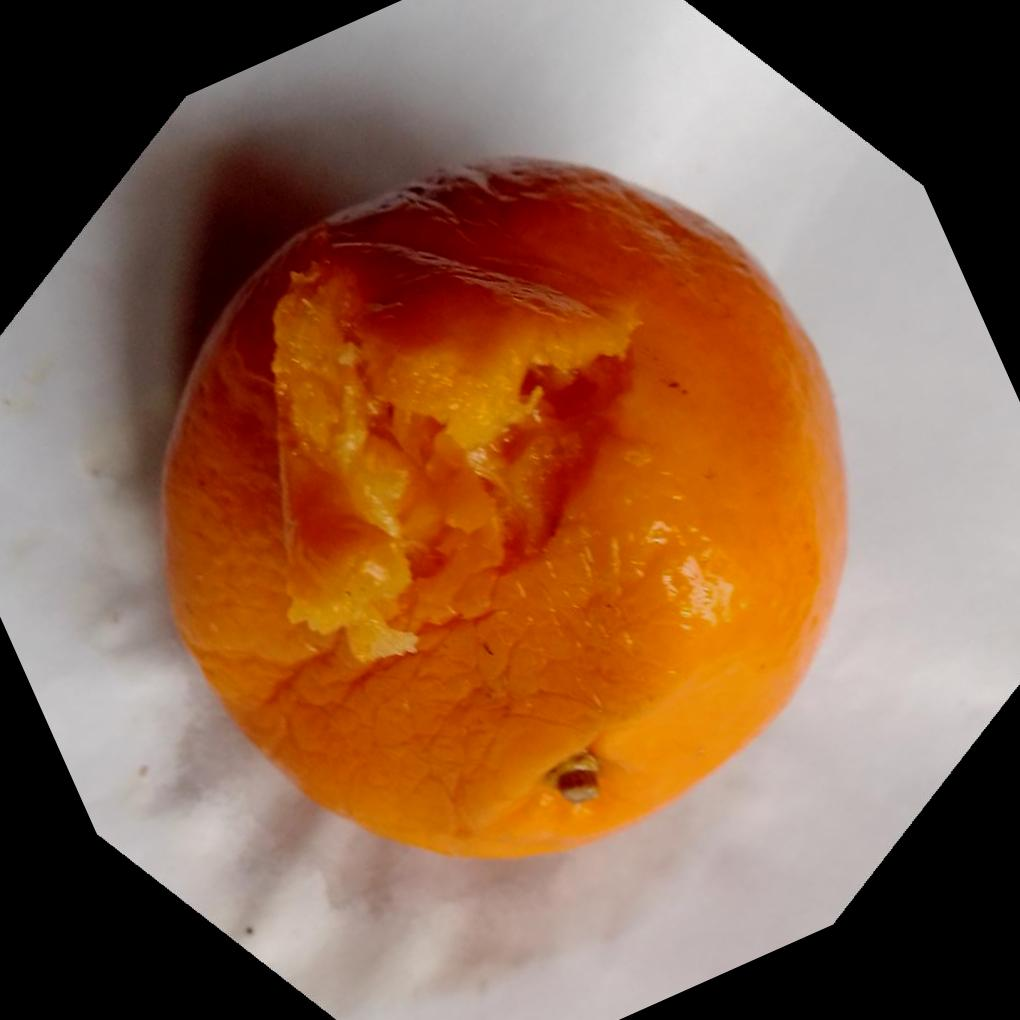FreshOrange: (154, 154, 847, 863)
